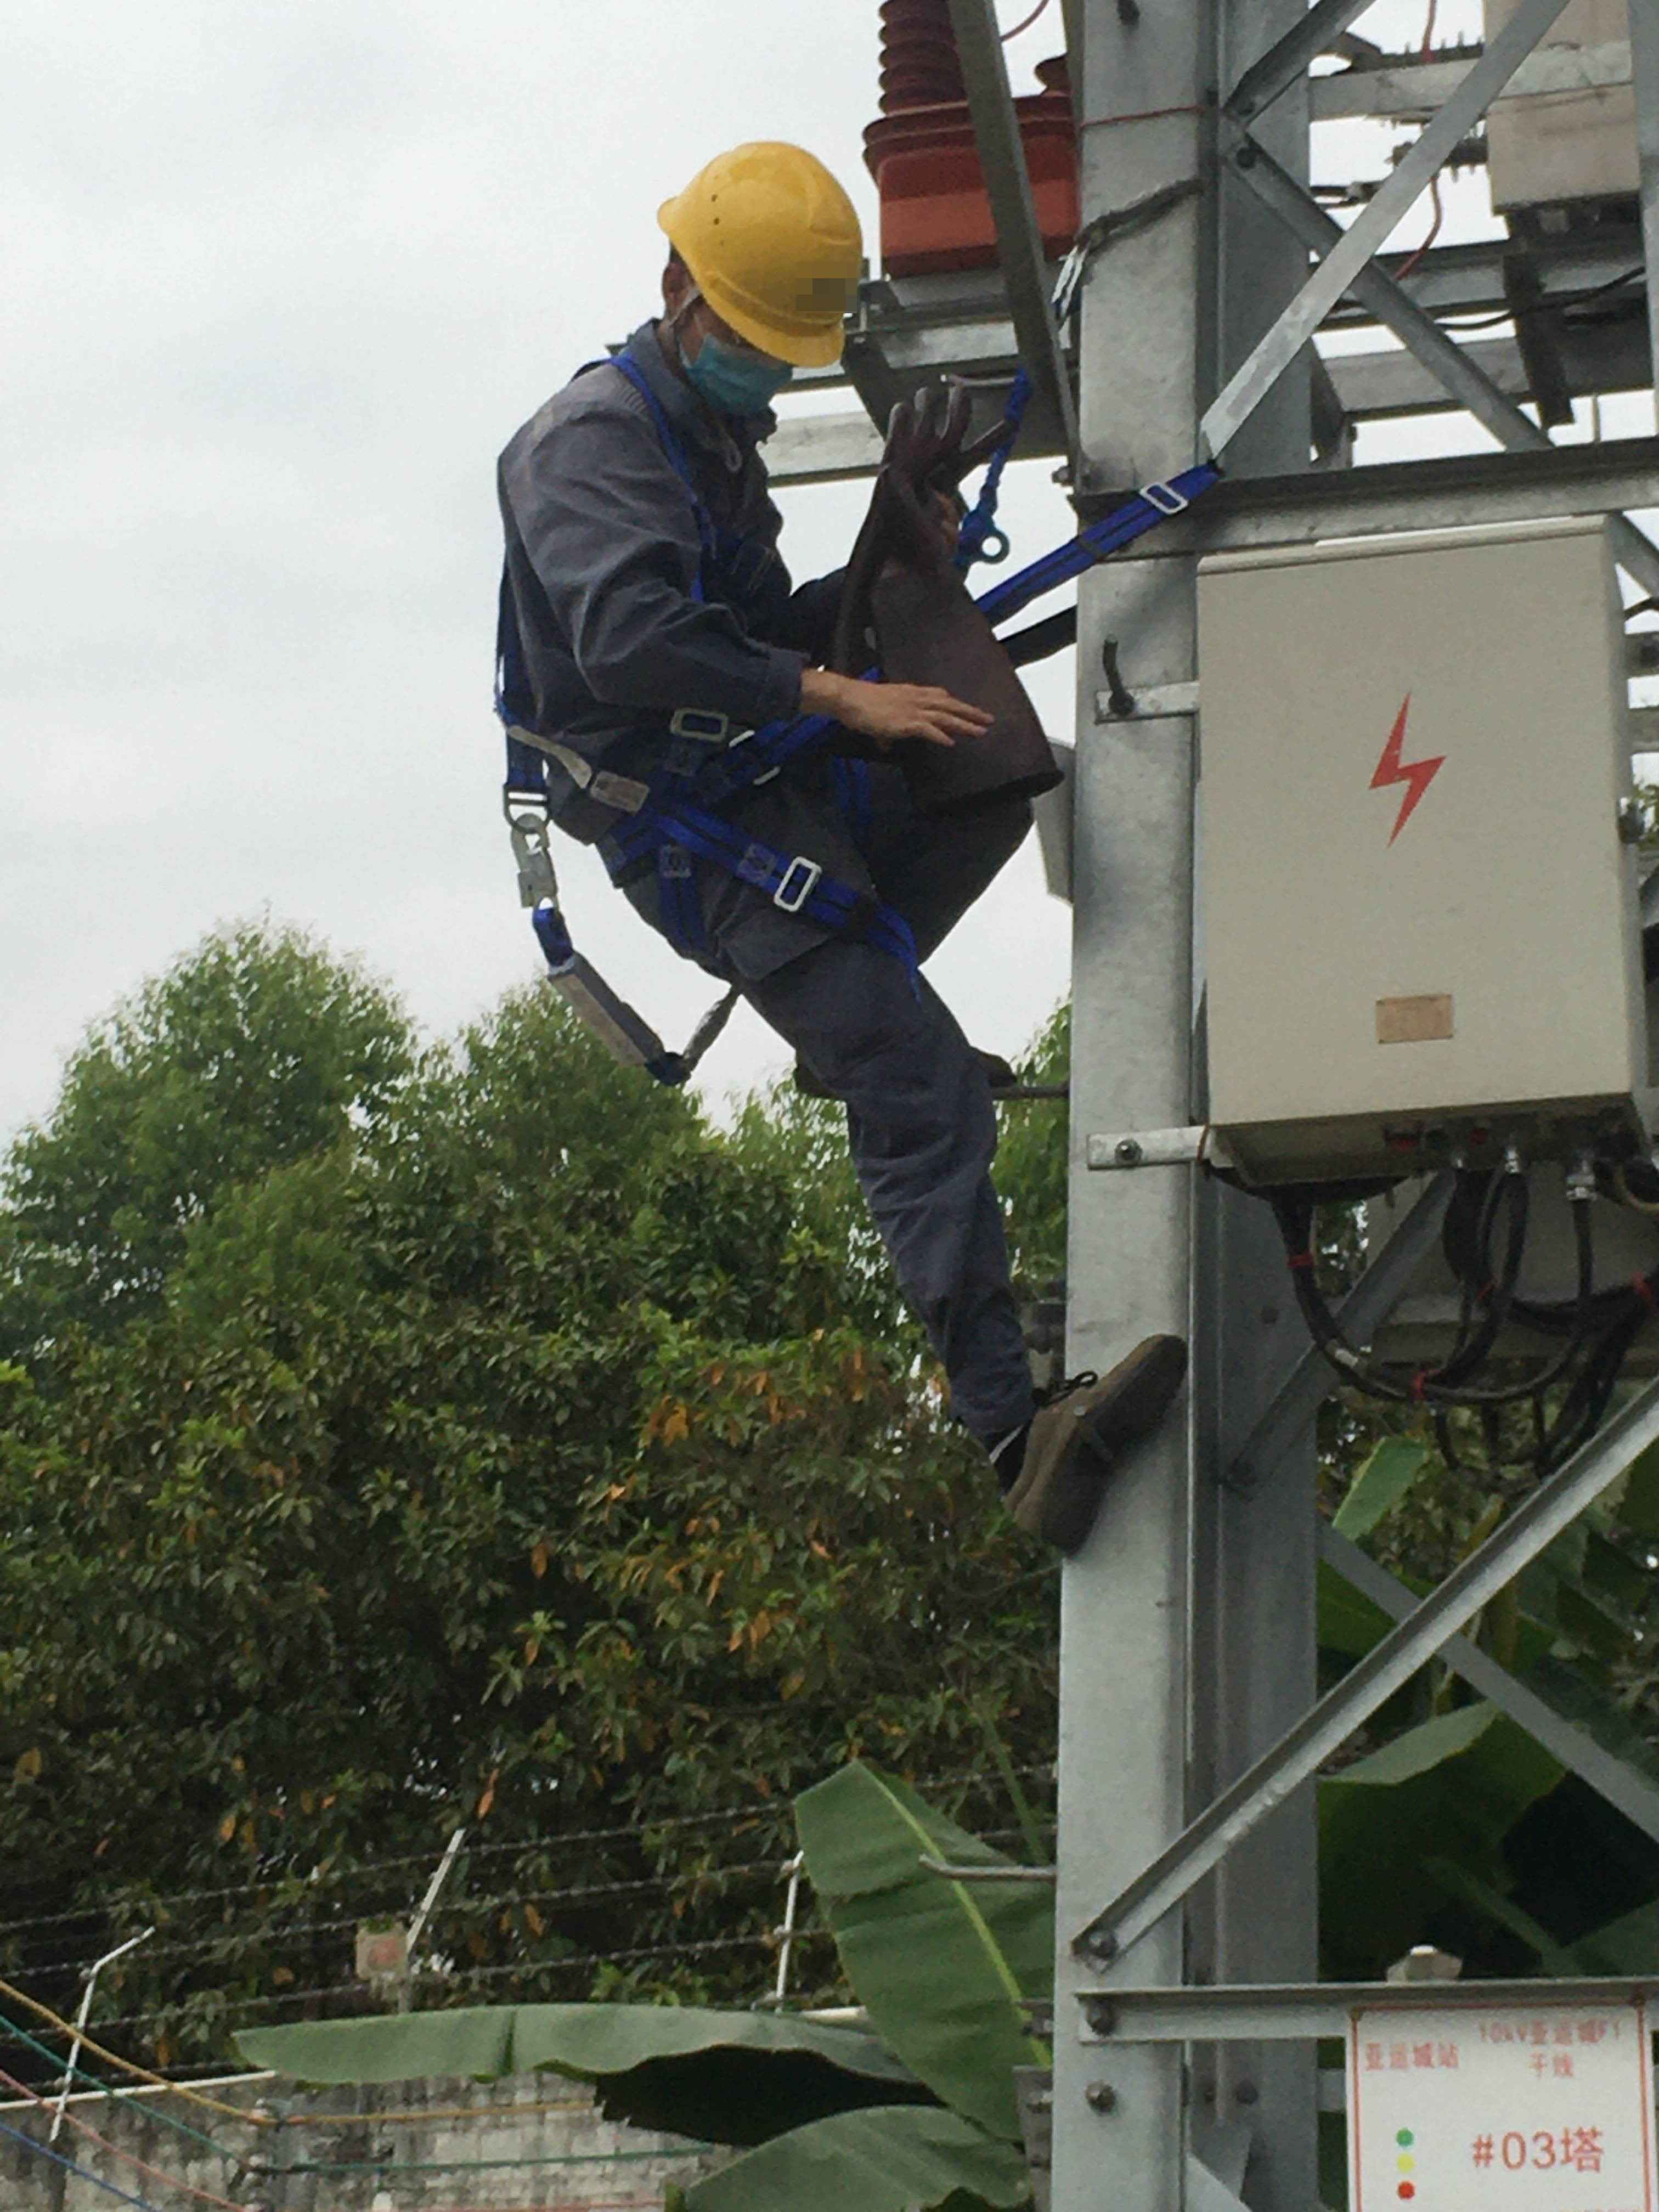downsuit: (606, 754, 1068, 1444)
upsuit: (493, 361, 913, 747)
